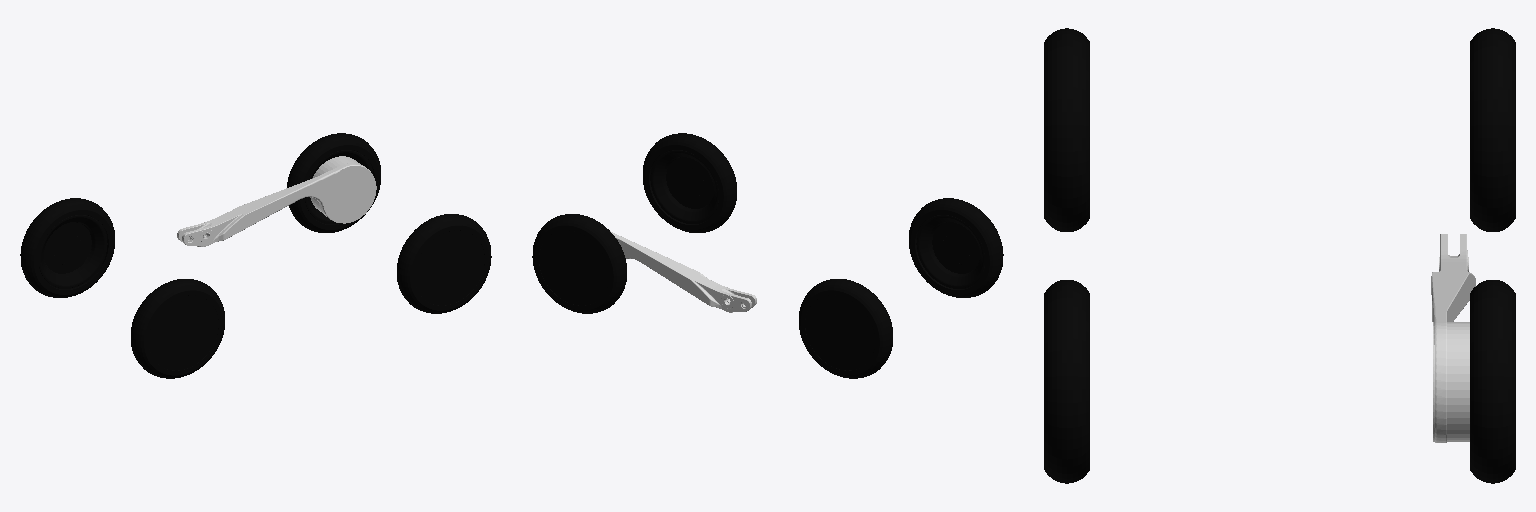
robot.urdf — b2w_description:
<?xml version='1.0' encoding='utf-8'?>
<robot name="b2w_description">
  <link name="base_link">
    <inertial>
      <origin xyz="0.000458 0.005261 0.000665" rpy="0 0 0" />
      <mass value="35.606" />
      <inertia ixx="0.27466" ixy="-0.000622" ixz="0.00315" iyy="1.0618" iyz="-0.00139" izz="1.1825" />
    </inertial>
    <visual>
      <origin xyz="0 0 0" rpy="0 0 0" />
      <geometry>
        <mesh filename="../dae/base_link.dae" />
      </geometry>
      <material name="白色logo_019-effect"><color rgba="1 1 1 1" /></material><material name="材质_041-effect"><color rgba="0 0 0 1" /></material><material name="磨砂铝合金_033-effect"><color rgba="0.85 0.85 0.85 1" /></material><material name="材质_044-effect"><color rgba="0.07323546 0.07323546 0.07323546 1" /></material><material name="材质_042-effect"><color rgba="0 0 0 1" /></material><material name="材质_040-effect"><color rgba="0 0 0 1" /></material><material name="材质_043-effect"><color rgba="0 0 0 1" /></material></visual>
    <collision>
      <origin xyz="0 0 0" rpy="0 0 0" />
        <geometry>
          <box size="0.5 0.28 0.15" />
        </geometry>
    </collision>
  </link>
  <link name="lidar_link">
    <inertial>
      <origin xyz="0.34218 0 0.17851" rpy="0 0 0" />
      <mass value="4.19E-15" />
      <inertia ixx="1.68E-27" ixy="-3.2E-45" ixz="7.68E-44" iyy="1.68E-27" iyz="-9.26E-47" izz="1.68E-27" />
    </inertial>
    <collision>
      <origin xyz="0 0 -0.02" rpy="0 0 0" />
      <geometry>
        <cylinder length="0.16" radius="0.076" />
        
      </geometry>
    </collision>
  </link>
  <joint name="joint_lidar" type="fixed">
    <origin xyz="0.34218 0 0.17851" rpy="0 0 0" />
    <parent link="base_link" />
    <child link="lidar_link" />
    <axis xyz="0 0 0" />
  </joint>
  <link name="f_dc_link">
    <inertial>
      <origin xyz="3.47E-18 0 5.55E-17" rpy="0 0 0" />
      <mass value="4.19E-15" />
      <inertia ixx="1.68E-27" ixy="-9.81E-45" ixz="-2.54E-44" iyy="1.68E-27" iyz="0" izz="1.68E-27" />
    </inertial>
  </link>
  <joint name="joint_f_dc" type="fixed">
    <origin xyz="0.42161 0.025 0.061851" rpy="-2.3562 0 -1.5708" />
    <parent link="base_link" />
    <child link="f_dc_link" />
    <axis xyz="0 0 0" />
  </joint>
  <link name="r_dc_link">
    <inertial>
      <origin xyz="-7.46E-16 -3.33E-16 -1.11E-15" rpy="0 0 0" />
      <mass value="4.19E-15" />
      <inertia ixx="1.68E-27" ixy="-4.31E-44" ixz="2.48E-45" iyy="1.68E-27" iyz="0" izz="1.68E-27" />
    </inertial>
  </link>
  <joint name="joint_r_dc" type="fixed">
    <origin xyz="-0.42244 -0.025 0.038026" rpy="-2.3562 0 1.5708" />
    <parent link="base_link" />
    <child link="r_dc_link" />
    <axis xyz="0 0 0" />
  </joint>
  <link name="imu_link">
    <inertial>
      <origin xyz="-2.02E-17 1.73E-17 -1.39E-17" rpy="0 0 0" />
      <mass value="4.19E-15" />
      <inertia ixx="1.68E-27" ixy="1.84E-44" ixz="-7.35E-44" iyy="1.68E-27" iyz="-3.67E-44" izz="1.68E-27" />
    </inertial>
  </link>
  <joint name="joint_imu" type="fixed">
    <origin xyz="0 -0.02341 0.04927" rpy="0 0 0" />
    <parent link="base_link" />
    <child link="imu_link" />
    <axis xyz="0 0 0" />
  </joint>
  <link name="head_Link">
    <inertial>
      <origin xyz="0.33989 -0.000168 0.12029" rpy="0 0 0" />
      <mass value="3.6885" />
      <inertia ixx="0.026455" ixy="3.15E-05" ixz="0.00166" iyy="0.029221" iyz="-3.27E-05" izz="0.010918" />
    </inertial>
    <collision>
      <origin xyz="0.41 0 0.005" rpy="0 0 0" />
      <geometry>
        <box size="0.04 0.12 0.14" />
      </geometry>
    </collision>
  </link>
  <joint name="joint_head" type="fixed">
    <origin xyz="0 0 0" rpy="0 0 0" />
    <parent link="base_link" />
    <child link="head_Link" />
    <axis xyz="0 0 0" />
  </joint>
  <link name="tail_link">
    <inertial>
      <origin xyz="-0.37448 0.000488 0.006495" rpy="0 0 0" />
      <mass value="0.795" />
      <inertia ixx="0.0028118" ixy="1.95E-05" ixz="-7.87E-06" iyy="0.0047506" iyz="-1.57E-05" izz="0.0029154" />
    </inertial>
    <collision>
      <origin xyz="-0.405 0 0.005" rpy="0 0 0" />
      <geometry>
        <box size="0.025 0.12 0.14" />
      </geometry>
    </collision>
  </link>
  <joint name="joint_tail" type="fixed">
    <origin xyz="0 0 0" rpy="0 0 0" />
    <parent link="base_link" />
    <child link="tail_link" />
    <axis xyz="0 0 0" />
  </joint>
  <link name="FL_hip">
    <inertial>
      <origin xyz="-0.003841 -0.009068 0" rpy="0 0 0" />
      <mass value="2.673" />
      <inertia ixx="0.0033188" ixy="7.16E-05" ixz="-3.77E-07" iyy="0.0048743" iyz="4E-09" izz="0.0037087" />
    </inertial>
    <visual>
      <origin xyz="0 0 0" rpy="0 0 0" />
      <geometry>
        <mesh filename="../dae/FL_hip.dae" />
      </geometry>
      <material name="磨砂铝合金_008-effect"><color rgba="0.85 0.85 0.85 1" /></material></visual>
    <collision>
      <origin xyz="0 0.12 0" rpy="1.5707963267948966 0 0" />
      <geometry>
        <cylinder length="0.05" radius="0.07" />
      </geometry>
    </collision>
  </link>
  <joint name="FL_hip_joint" type="revolute">
    <origin xyz="0.3285 0.072 0" rpy="0 0 0" />
    <parent link="base_link" />
    <child link="FL_hip" />
    <axis xyz="1 0 0" />
    <limit lower="-0.87" upper="0.87" effort="200" velocity="23" />
  </joint>
  <link name="FL_thigh">
    <inertial>
      <origin xyz="-0.006279 -0.032049 -0.057835" rpy="0 0 0" />
      <mass value="4.536" />
      <inertia ixx="0.062299" ixy="0.00087781" ixz="-0.0036475" iyy="0.061399" iyz="0.0083537" izz="0.0081997" />
    </inertial>
    <visual>
      <origin xyz="0 0 0" rpy="0 0 0" />
      <geometry>
        <mesh filename="../dae/FL_thigh.dae" />
      </geometry>
      <material name="磨砂铝合金_008-effect"><color rgba="0.85 0.85 0.85 1" /></material><material name="灰色硅胶_009-effect"><color rgba="0.6500053 0.68 0.6500053 1" /></material></visual>
    <collision>
      <origin xyz="-0.025 0 -0.16" rpy="0 1.57 0" />
      <geometry>
        <box size="0.32 0.0445 0.054" />
      </geometry>
    </collision>
  </link>
  <joint name="FL_thigh_joint" type="revolute">
    <origin xyz="0 0.11973 0" rpy="0 0 0" />
    <parent link="FL_hip" />
    <child link="FL_thigh" />
    <axis xyz="0 1 0" />
    <limit lower="-0.94" upper="4.69" effort="200" velocity="23" />
  </joint>
  <link name="FL_calf">
    <inertial>
      <origin xyz="0.005278 0.017301 -0.29778" rpy="0 0 0" />
      <mass value="2.2906" />
      <inertia ixx="0.029283" ixy="0.000221" ixz="-0.001064" iyy="0.030868" iyz="0.002093" izz="0.00326" />
    </inertial>
    <visual>
      <origin xyz="0 0 0" rpy="0 0 0" />
      <geometry>
        <mesh filename="../dae/FL_calf.dae" />
      </geometry>
      <material name="磨砂铝合金_008-effect"><color rgba="0.85 0.85 0.85 1" /></material></visual>
    <collision>
      <origin xyz="0 0 0" rpy="0 0 0" />
      <geometry>
        <mesh filename="../dae/FL_calf.dae" />
      </geometry>
    </collision>
  </link>
  <joint name="FL_calf_joint" type="revolute">
    <origin xyz="0 -8.8203E-05 -0.35" rpy="0 0 0" />
    <parent link="FL_thigh" />
    <child link="FL_calf" />
    <axis xyz="0 1 0" />
    <limit lower="-2.82" upper="-0.43" effort="320" velocity="14" />
  </joint>
  <link name="FL_foot">
    <inertial>
      <origin xyz="-0.000991 0.051053 -0.00113" rpy="0 0 0" />
      <mass value="1.083" />
      <inertia ixx="0.004121" ixy="6E-06" ixz="-4.8E-05" iyy="0.007776" iyz="7E-06" izz="0.004108" />
    </inertial>
    <visual>
      <origin xyz="0 0 0" rpy="0 0 0" />
      <geometry>
        <mesh filename="../dae/Left_wheel.stl" />
      </geometry>
      <material name="silicone-effect"><color rgba="0.073 0.073 0.073 1" /></material></visual>
    <collision>
      <origin xyz="0 0 0" rpy="0 0 0" />
      <geometry>
        <mesh filename="../dae/Left_wheel.stl" />
      </geometry>
    </collision>
  </link>
  <joint name="FL_foot_joint" type="continuous">
    <origin xyz="0 0 -0.35" rpy="0 0 0" />
    <parent link="FL_calf" />
    <child link="FL_foot" />
    <axis xyz="0 1 0" />
    <limit effort="20" velocity="50" />
  </joint>
  <link name="FR_hip">
    <inertial>
      <origin xyz="-0.003841 0.009068 0" rpy="0 0 0" />
      <mass value="2.673" />
      <inertia ixx="0.003318772" ixy="-7.16E-05" ixz="-3.77E-07" iyy="0.004874327" iyz="-4E-09" izz="0.003708731" />
    </inertial>
    <visual>
      <origin xyz="0 0 0" rpy="0 0 0" />
      <geometry>
        <mesh filename="../dae/FR_hip.dae" />
      </geometry>
      <material name="磨砂铝合金_008-effect"><color rgba="0.85 0.85 0.85 1" /></material></visual>
    <collision>
      <origin xyz="0 -0.12 0" rpy="1.5707963267948966 0 0" />
      <geometry>
        <cylinder length="0.05" radius="0.07" />
      </geometry>
    </collision>
  </link>
  <joint name="FR_hip_joint" type="revolute">
    <origin xyz="0.3285 -0.072 0" rpy="0 0 0" />
    <parent link="base_link" />
    <child link="FR_hip" />
    <axis xyz="1 0 0" />
    <limit lower="-0.87" upper="0.87" effort="200" velocity="23" />
  </joint>
  <link name="FR_thigh">
    <inertial>
      <origin xyz="-0.006279 0.032049 -0.057835" rpy="0 0 0" />
      <mass value="4.536" />
      <inertia ixx="0.06229908" ixy="-0.000877808" ixz="-0.003647464" iyy="0.06139927" iyz="-0.008353671" izz="0.008199745" />
    </inertial>
    <visual>
      <origin xyz="0 0 0" rpy="0 0 0" />
      <geometry>
        <mesh filename="../dae/FR_thigh.dae" />
      </geometry>
      <material name="磨砂铝合金_008-effect"><color rgba="0.85 0.85 0.85 1" /></material><material name="灰色硅胶_009-effect"><color rgba="0.6500053 0.68 0.6500053 1" /></material></visual>
    <collision>
      <origin rpy="0 1.57 0" xyz="-0.03 0 -0.2" />
      <geometry>
        <box size="0.25 0.028 0.04" />
      </geometry>
    </collision>
  </link>
  <joint name="FR_thigh_joint" type="revolute">
    <origin xyz="0 -0.11973 0" rpy="0 0 0" />
    <parent link="FR_hip" />
    <child link="FR_thigh" />
    <axis xyz="0 1 0" />
    <limit lower="-0.94" upper="4.69" effort="200" velocity="23" />
  </joint>
  <link name="FR_calf">
    <inertial>
      <origin xyz="0.005278 -0.017301 -0.297775" rpy="0 0 0" />
      <mass value="2.290557" />
      <inertia ixx="0.029283" ixy="-0.000221" ixz="-0.001064" iyy="0.030868" iyz="-0.002093" izz="0.00326" />
    </inertial>
    <visual>
      <origin xyz="0 0 0" rpy="0 0 0" />
      <geometry>
        <mesh filename="../dae/FR_calf.dae" />
      </geometry>
      <material name="磨砂铝合金_031-effect"><color rgba="0.7487598 0.7487598 0.7487598 1" /></material></visual>
    <collision>
      <origin xyz="0 0 0" rpy="0 0 0" />
      <geometry>
        <mesh filename="../dae/FR_calf.dae" />
      </geometry>
    </collision>
  </link>
  <joint name="FR_calf_joint" type="revolute">
    <origin xyz="0 8.8205E-05 -0.35" rpy="0 0 0" />
    <parent link="FR_thigh" />
    <child link="FR_calf" />
    <axis xyz="0 1 0" />
    <limit lower="-2.82" upper="-0.43" effort="320" velocity="14" />
  </joint>
  <link name="FR_foot">
    <inertial>
      <origin xyz="-0.000991 -0.051053 -0.00113" rpy="0 0 0" />
      <mass value="1.083" />
      <inertia ixx="0.004121" ixy="-6E-06" ixz="-4.8E-05" iyy="0.007776" iyz="-7E-06" izz="0.004108" />
    </inertial>
    <visual>
      <origin xyz="0.0 -0.0 0" rpy="0 0 0" />
      <geometry>
        <mesh filename="../dae/Right_wheel.stl" />

        <!-- <cylinder radius="0.112" length="0.05"/>  -->
 
      </geometry>
      <material name="silicone-effect"><color rgba="0.073 0.073 0.073 1" /></material></visual>
    <collision>
      <origin xyz="0.0 -0.0 0" rpy="0 0 0" />
      <geometry>
        <mesh filename="../dae/Right_wheel.stl" />

        <!-- <cylinder radius="0.112" length="0.05"/>  -->
 
      </geometry>
    </collision>
  </link>
  <joint name="FR_foot_joint" type="continuous">
    <origin xyz="0 -0.001 -0.35" rpy="0 0 0" />
    <parent link="FR_calf" />
    <child link="FR_foot" />
    <axis xyz="0 1 0" />
    <limit effort="20" velocity="50" />
  </joint>
  <link name="RL_hip">
    <inertial>
      <origin xyz="0.003841 -0.009068 0" rpy="0 0 0" />
      <mass value="2.673" />
      <inertia ixx="0.0033188" ixy="-7.16E-05" ixz="3.77E-07" iyy="0.0048743" iyz="4E-09" izz="0.0037087" />
    </inertial>
    <visual>
      <origin xyz="0 0 0" rpy="0 0 0" />
      <geometry>
        <mesh filename="../dae/RL_hip.dae" />
      </geometry>
      <material name="磨砂铝合金_008-effect"><color rgba="0.85 0.85 0.85 1" /></material></visual>
    <collision>
      <origin xyz="0 0.12 0" rpy="1.5707963267948966 0 0" />
      <geometry>
        <cylinder length="0.05" radius="0.07" />
      </geometry>
    </collision>
  </link>
  <joint name="RL_hip_joint" type="revolute">
    <origin xyz="-0.3285 0.072 0" rpy="0 0 0" />
    <parent link="base_link" />
    <child link="RL_hip" />
    <axis xyz="1 0 0" />
    <limit lower="-0.87" upper="0.87" effort="200" velocity="23" />
  </joint>
  <link name="RL_thigh">
    <inertial>
      <origin xyz="-0.006279 -0.032049 -0.057835" rpy="0 0 0" />
      <mass value="4.536" />
      <inertia ixx="0.06229908" ixy="0.000877808" ixz="-0.003647464" iyy="0.06139927" iyz="0.008353671" izz="0.008199745" />
    </inertial>
    <visual>
      <origin xyz="0 0 0" rpy="0 0 0" />
      <geometry>
        <mesh filename="../dae/RL_thigh.dae" />
      </geometry>
      <material name="磨砂铝合金_008-effect"><color rgba="0.85 0.85 0.85 1" /></material><material name="灰色硅胶_009-effect"><color rgba="0.6500053 0.68 0.6500053 1" /></material></visual>
    <collision>
      <origin rpy="0 1.57 0" xyz="-0.03 0 -0.2" />
      <geometry>
        <box size="0.25 0.028 0.04" />
      </geometry>
    </collision>
  </link>
  <joint name="RL_thigh_joint" type="revolute">
    <origin xyz="0 0.11973 0" rpy="0 0 0" />
    <parent link="RL_hip" />
    <child link="RL_thigh" />
    <axis xyz="0 1 0" />
    <limit lower="-0.94" upper="4.69" effort="200" velocity="23" />
  </joint>
  <link name="RL_calf">
    <inertial>
      <origin xyz="0.005278 0.017301 -0.29778" rpy="0 0 0" />
      <mass value="2.2906" />
      <inertia ixx="0.029283" ixy="0.000221" ixz="-0.001064" iyy="0.030868" iyz="0.002093" izz="0.00326" />
    </inertial>
    <visual>
      <origin xyz="0 0 0" rpy="0 0 0" />
      <geometry>
        <mesh filename="../dae/RL_calf.dae" />
      </geometry>
      <material name="磨砂铝合金_008-effect"><color rgba="0.85 0.85 0.85 1" /></material></visual>
    <collision>
      <origin xyz="0 0 0" rpy="0 0 0" />
      <geometry>
        <mesh filename="../dae/RL_calf.dae" />
      </geometry>
    </collision>
  </link>
  <joint name="RL_calf_joint" type="revolute">
    <origin xyz="0 -8.8205E-05 -0.35" rpy="0 0 0" />
    <parent link="RL_thigh" />
    <child link="RL_calf" />
    <axis xyz="0 1 0" />
    <limit lower="-2.82" upper="-0.43" effort="320" velocity="14" />
  </joint>
  <link name="RL_foot">
    <inertial>
      <origin xyz="-0.000991 0.051053 -0.00113" rpy="0 0 0" />
      <mass value="1.083" />
      <inertia ixx="0.004121" ixy="6E-06" ixz="-4.8E-05" iyy="0.007776" iyz="7E-06" izz="0.004108" />
    </inertial>
    <visual>
      <origin xyz="0 0 0" rpy="0 0 0" />
      <geometry>
        <mesh filename="../dae/Left_wheel.stl" />
      </geometry>
      <material name="silicone-effect"><color rgba="0.073 0.073 0.073 1" /></material></visual>
    <collision>
      <origin xyz="0 0 0" rpy="0 0 0" />
      <geometry>
        <mesh filename="../dae/Left_wheel.stl" />
      </geometry>
    </collision>
  </link>
  <joint name="RL_foot_joint" type="continuous">
    <origin xyz="0 0 -0.35" rpy="0 0 0" />
    <parent link="RL_calf" />
    <child link="RL_foot" />
    <axis xyz="0 1 0" />
    <limit effort="20" velocity="50" />
  </joint>
  <link name="RR_hip">
    <inertial>
      <origin xyz="0.003841 0.009068 0" rpy="0 0 0" />
      <mass value="2.673" />
      <inertia ixx="0.0033188" ixy="7.16E-05" ixz="3.77E-07" iyy="0.0048743" iyz="-4E-09" izz="0.0037087" />
    </inertial>
    <visual>
      <origin xyz="0 0 0" rpy="0 0 0" />
      <geometry>
        <mesh filename="../dae/RR_hip.dae" />
      </geometry>
      <material name="磨砂铝合金_008-effect"><color rgba="0.85 0.85 0.85 1" /></material></visual>
    <collision>
      <origin xyz="0 -0.12 0" rpy="1.5707963267948966 0 0" />
      <geometry>
        <cylinder length="0.05" radius="0.07" />
      </geometry>
    </collision>
  </link>
  <joint name="RR_hip_joint" type="revolute">
    <origin xyz="-0.3285 -0.072 0" rpy="0 0 0" />
    <parent link="base_link" />
    <child link="RR_hip" />
    <axis xyz="1 0 0" />
    <limit lower="-0.87" upper="0.87" effort="200" velocity="23" />
  </joint>
  <link name="RR_thigh">
    <inertial>
      <origin xyz="-0.006279 0.032049 -0.057835" rpy="0 0 0" />
      <mass value="4.536" />
      <inertia ixx="0.062299" ixy="-0.00087781" ixz="-0.0036475" iyy="0.061399" iyz="-0.0083537" izz="0.0081997" />
    </inertial>
    <visual>
      <origin xyz="0 0 0" rpy="0 0 0" />
      <geometry>
        <mesh filename="../dae/RR_thigh.dae" />
      </geometry>
      <material name="磨砂铝合金_008-effect"><color rgba="0.85 0.85 0.85 1" /></material><material name="灰色硅胶_009-effect"><color rgba="0.6500053 0.68 0.6500053 1" /></material></visual>
    <collision>
      <origin rpy="0 1.57 0" xyz="-0.03 0 -0.2" />
      <geometry>
        <box size="0.25 0.028 0.04" />
      </geometry>
    </collision>
  </link>
  <joint name="RR_thigh_joint" type="revolute">
    <origin xyz="0 -0.11973 0" rpy="0 0 0" />
    <parent link="RR_hip" />
    <child link="RR_thigh" />
    <axis xyz="0 1 0" />
    <limit lower="-0.94" upper="4.69" effort="200" velocity="23" />
  </joint>
  <link name="RR_calf">
    <inertial>
      <origin xyz="0.005278 -0.017301 -0.29778" rpy="0 0 0" />
      <mass value="2.2906" />
      <inertia ixx="0.029283" ixy="-0.000221" ixz="-0.001064" iyy="0.030868" iyz="-0.002093" izz="0.00326" />
    </inertial>
    <visual>
      <origin xyz="0 0 0" rpy="0 0 0" />
      <geometry>
        <mesh filename="../dae/RR_calf.dae" />
      </geometry>
      <material name="磨砂铝合金_031-effect"><color rgba="0.7487598 0.7487598 0.7487598 1" /></material></visual>
    <collision>
      <origin xyz="0 0 0" rpy="0 0 0" />
      <geometry>
        <mesh filename="../dae/RR_calf.dae" />
      </geometry>
    </collision>
  </link>
  <joint name="RR_calf_joint" type="revolute">
    <origin xyz="0 8.8205E-05 -0.35" rpy="0 0 0" />
    <parent link="RR_thigh" />
    <child link="RR_calf" />
    <axis xyz="0 1 0" />
    <limit lower="-2.82" upper="-0.43" effort="320" velocity="14" />
  </joint>
  <link name="RR_foot">
    <inertial>
      <origin xyz="-0.000991 -0.051053 -0.00113" rpy="0 0 0" />
      <mass value="1.083" />
      <inertia ixx="0.004121" ixy="-6E-06" ixz="-4.8E-05" iyy="0.007776" iyz="-7E-06" izz="0.004108" />
    </inertial>
    <visual>
      <origin xyz="0.0 -0 0" rpy="0 0 0" />
      <geometry>
        <mesh filename="../dae/Right_wheel.stl" />
        
        <!-- <cylinder radius="0.112" length="0.05"/> 根据轮子半径和厚度修改 -->
 
      </geometry>
      <material name="silicone-effect"><color rgba="0.073 0.073 0.073 1" /></material></visual>
    <collision>
      <origin xyz="0.0 -0 0" rpy="0 0 0" />
      <geometry>
        <mesh filename="../dae/Right_wheel.stl" />

        <!-- <cylinder radius="0.112" length="0.05"/>  -->
 
      </geometry>
    </collision>
  </link>
  <joint name="RR_foot_joint" type="continuous">
    <origin xyz="0 -0.001 -0.35" rpy="0 0 0" />
    <parent link="RR_calf" />
    <child link="RR_foot" />
    <axis xyz="0 1 0" />
    <limit effort="20" velocity="50" />
  </joint>
  <link name="f_oc_link">
    <inertial>
      <origin xyz="-3.39E-15 1.46E-16 -6.11E-16" rpy="0 0 0" />
      <mass value="4.19E-15" />
      <inertia ixx="1.68E-27" ixy="-3.89E-44" ixz="5.04E-44" iyy="1.68E-27" iyz="2.81E-45" izz="1.68E-27" />
    </inertial>
  </link>
  <joint name="f_oc_link" type="fixed">
    <origin xyz="0.3993 0 -0.01576" rpy="-1.5708 0 -1.5708" />
    <parent link="base_link" />
    <child link="f_oc_link" />
    <axis xyz="0 0 0" />
  </joint>
  <link name="logo_link">
    <inertial>
      <origin xyz="0 -2.3E-23 0" rpy="0 0 0" />
      <mass value="4.19E-15" />
      <inertia ixx="1.68E-27" ixy="0" ixz="0" iyy="1.68E-27" iyz="0" izz="1.68E-27" />
    </inertial>
  </link>
  <joint name="joint_logo" type="fixed">
    <origin xyz="0 0 0" rpy="0 0 0" />
    <parent link="base_link" />
    <child link="logo_link" />
    <axis xyz="0 0 0" />
  </joint>
  <link name="r_oc_ink">
    <inertial>
      <origin xyz="-0.39143 1.52E-07 -0.011961" rpy="0 0 0" />
      <mass value="4.19E-12" />
      <inertia ixx="1.68E-22" ixy="9.03E-39" ixz="0" iyy="1.68E-22" iyz="-1.2E-38" izz="1.68E-22" />
    </inertial>
  </link>
  <joint name="joint_r_oc" type="fixed">
    <origin xyz="-0.39143 0 -0.026131" rpy="-1.5708 0 1.5708" />
    <parent link="base_link" />
    <child link="r_oc_ink" />
    <axis xyz="0 0 0" />
  </joint>
</robot>

--- Render facts (derived) ---
Views: 3 orthographic renders of the robot side by side, from view 1: azimuth 30°, elevation 25°; view 2: azimuth 150°, elevation 25°; view 3: azimuth 270°, elevation 25°.
Model b2w_description with 26 links and 25 joints (12 revolute, 4 continuous, 9 fixed), rooted at base_link, posed all joints at 0 but 4 set to mid-range because 0 is outside their limits (FL_calf_joint = -1.62, FR_calf_joint = -1.62, RL_calf_joint = -1.62, RR_calf_joint = -1.62).
Links seen in each view (by area): view 1: FR_foot, RL_foot, RR_foot, FL_calf, FL_foot; view 2: FL_foot, FR_foot, RL_foot, RR_foot, FL_calf; view 3: FL_foot, FR_foot, RL_foot, RR_foot, FL_calf.
Link boxes in pixels (box(x1,y1,x2,y2)): FR_foot: box(397, 214, 491, 313); RL_foot: box(20, 198, 114, 297); RR_foot: box(131, 279, 224, 378); FL_calf: box(177, 156, 376, 246); FL_foot: box(287, 133, 380, 232); FL_foot: box(532, 214, 626, 313); FR_foot: box(643, 133, 736, 232); RL_foot: box(799, 279, 892, 378); RR_foot: box(909, 198, 1003, 297); FL_calf: box(610, 231, 756, 312); FL_foot: box(1470, 280, 1515, 483); FR_foot: box(1044, 280, 1089, 483); RL_foot: box(1470, 28, 1515, 231); RR_foot: box(1044, 28, 1089, 231); FL_calf: box(1431, 234, 1475, 442).
Size in the robot's own frame: 0.8829 by 0.5207 by 0.2259 metres.
Meshes: 15 distinct files referenced, 5 mesh visuals loaded (2 binary STL, 1 Collada DAE); not drawn: 12 (reference not matched to a file when rendering).